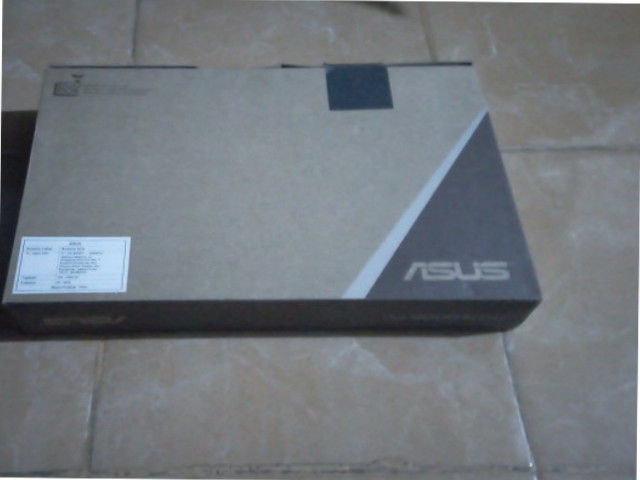cardboard: (7, 61, 538, 328)
